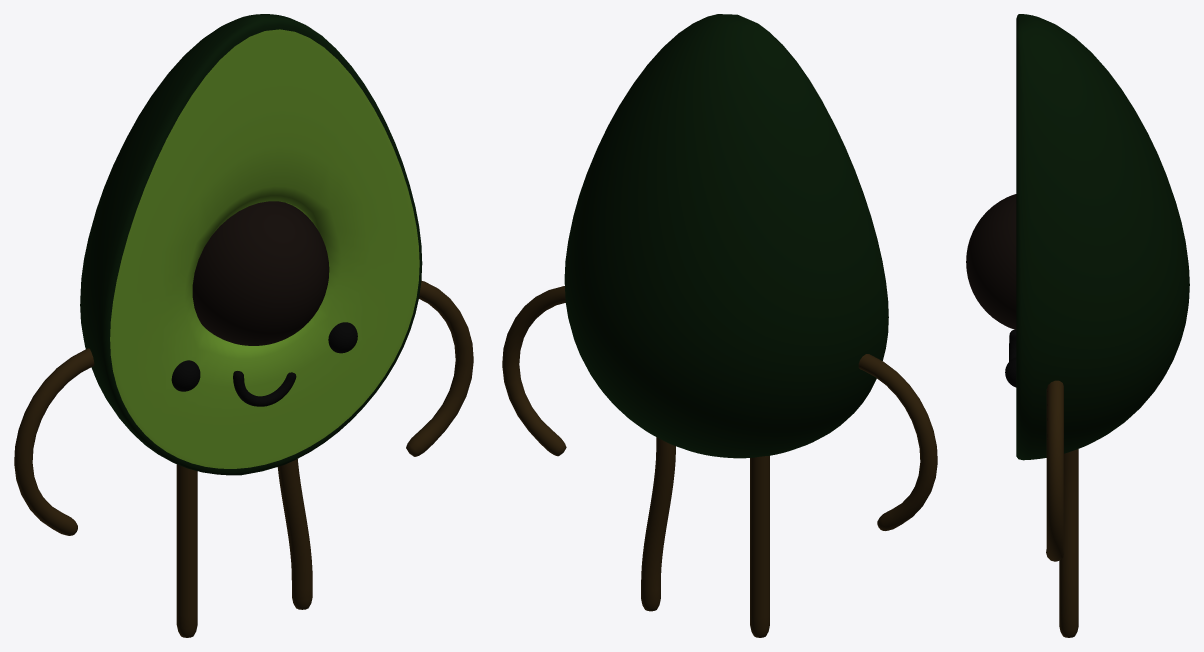
The model's file is avocado.obj.
The picture shows the model from 3 angles, left to right: view 1: azimuth 30°, elevation 25°; view 2: azimuth 150°, elevation 25°; view 3: azimuth 270°, elevation 25°; orthographic projection. The views are drawn at different scales.
Visible parts, largest first — view 1: Sphere, Sphere.001, Cylinder.001, Circle, Sphere.002, Sphere.003; view 2: Sphere, Cylinder.001; view 3: Sphere, Cylinder.001, Sphere.001.
Boxes of the visible parts, x1,y1,x2,y2 form: Sphere: (80, 14, 422, 475); Sphere.001: (192, 201, 329, 345); Cylinder.001: (14, 280, 473, 637); Circle: (233, 371, 296, 406); Sphere.002: (328, 322, 357, 353); Sphere.003: (171, 360, 200, 391); Sphere: (564, 14, 888, 458); Cylinder.001: (502, 286, 937, 637); Sphere: (1016, 14, 1189, 460); Cylinder.001: (1046, 380, 1078, 637); Sphere.001: (966, 194, 1016, 329).
Size of what is drawn, in the model's own units: 2.82 by 3.68 by 1.27.
